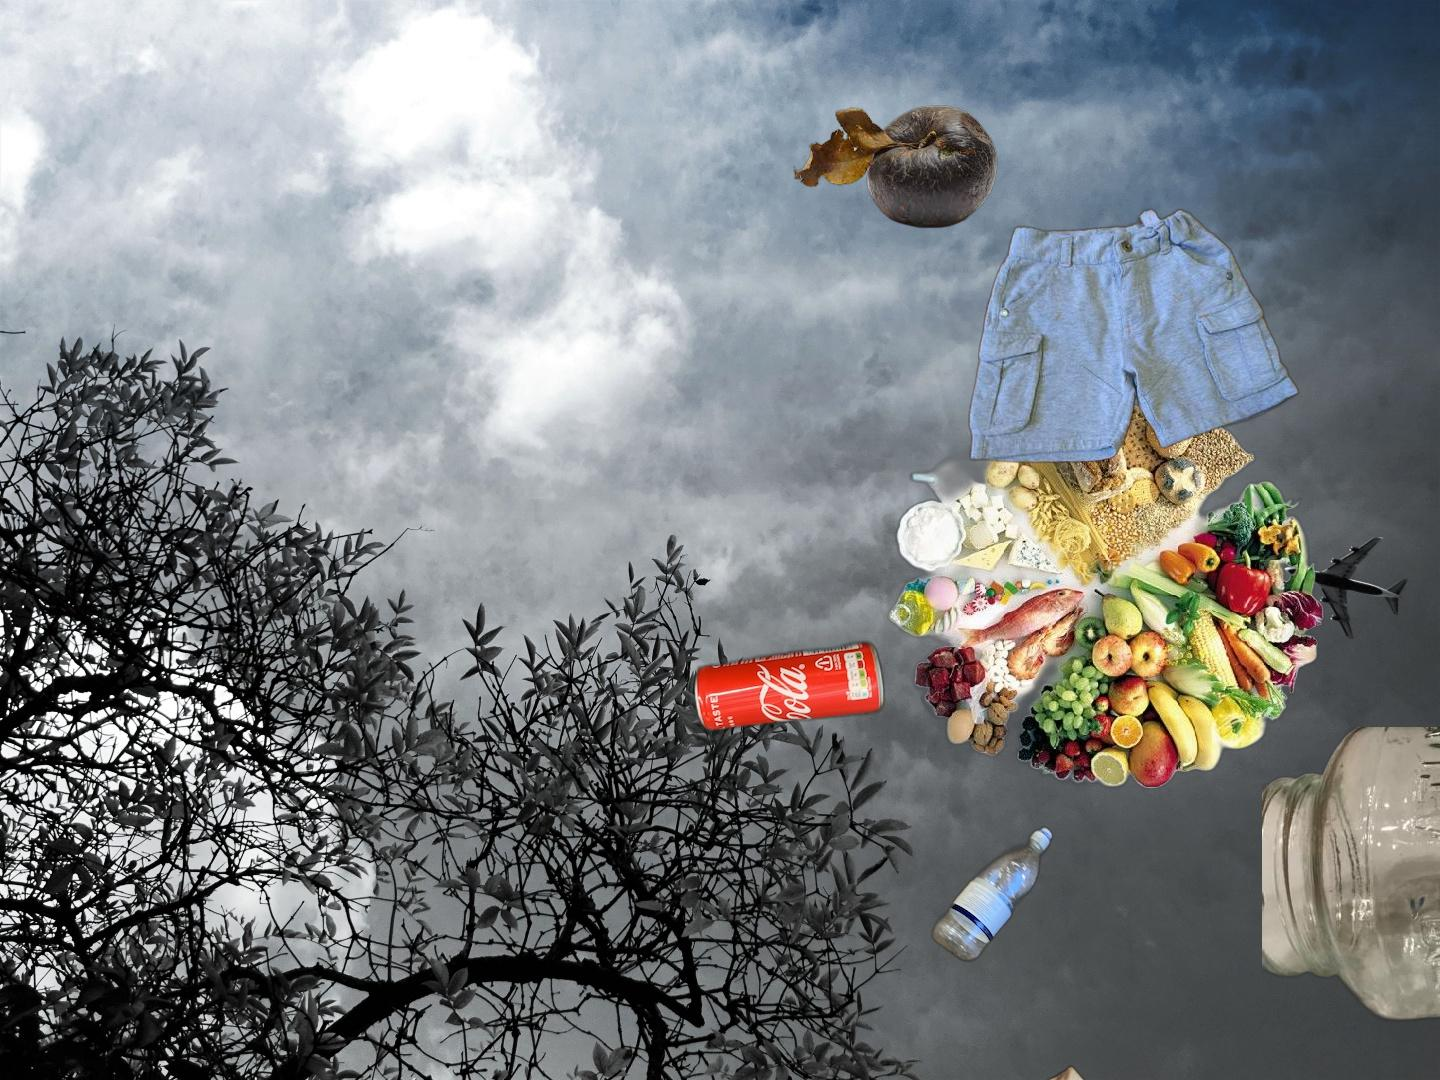biological: (883, 402, 1327, 791), (791, 103, 1000, 231)
clothes: (966, 206, 1301, 467)
glass: (1262, 727, 1440, 1069)
metal-cans: (689, 635, 889, 739)
paper-bag: (880, 1063, 1123, 1080)
plastic-bottles: (927, 822, 1056, 967)
